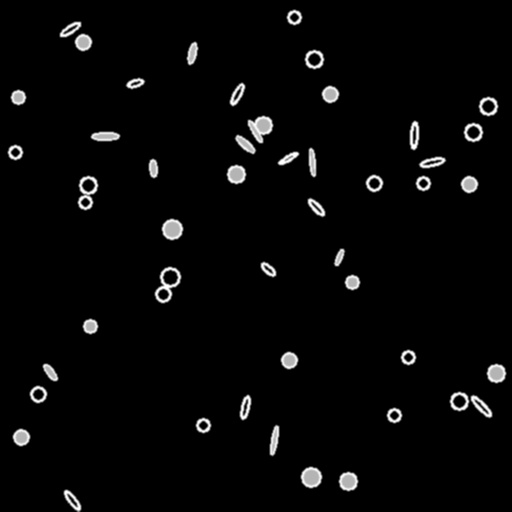pseudomonas: (470, 395, 492, 417), (58, 20, 82, 38), (63, 489, 81, 511), (247, 119, 263, 143), (229, 82, 245, 106), (235, 135, 255, 153), (307, 197, 325, 217), (419, 156, 445, 168), (239, 395, 251, 419), (42, 363, 58, 381), (278, 151, 298, 165), (269, 426, 279, 454), (186, 42, 198, 64), (260, 261, 276, 277), (308, 148, 316, 176), (333, 248, 345, 266), (126, 77, 144, 89), (410, 122, 418, 148), (92, 133, 118, 139), (149, 159, 157, 177)
synechocystis: (163, 220, 181, 238), (161, 268, 179, 286), (302, 468, 320, 486), (340, 473, 356, 489), (80, 177, 96, 193), (451, 393, 467, 409), (480, 98, 496, 114), (255, 117, 271, 133), (228, 166, 244, 182), (465, 124, 481, 140), (488, 365, 504, 381), (306, 51, 322, 67), (76, 35, 90, 49), (282, 353, 296, 367), (31, 387, 45, 401), (367, 176, 381, 190), (156, 287, 170, 301), (323, 87, 337, 101), (14, 430, 28, 444), (462, 177, 476, 191), (12, 91, 24, 103), (79, 196, 91, 208), (402, 351, 414, 363), (346, 276, 358, 288), (84, 320, 96, 332), (197, 419, 209, 431), (417, 177, 429, 189), (288, 11, 300, 23), (388, 409, 400, 421), (9, 146, 21, 158)
